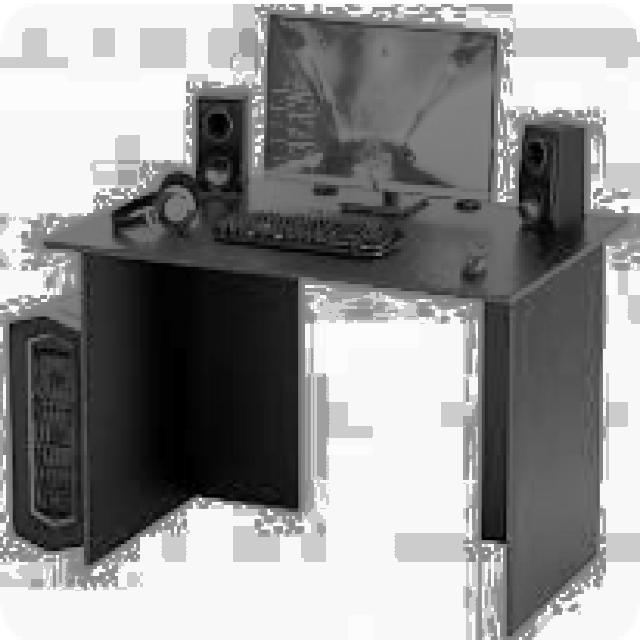table: (37, 174, 628, 636)
